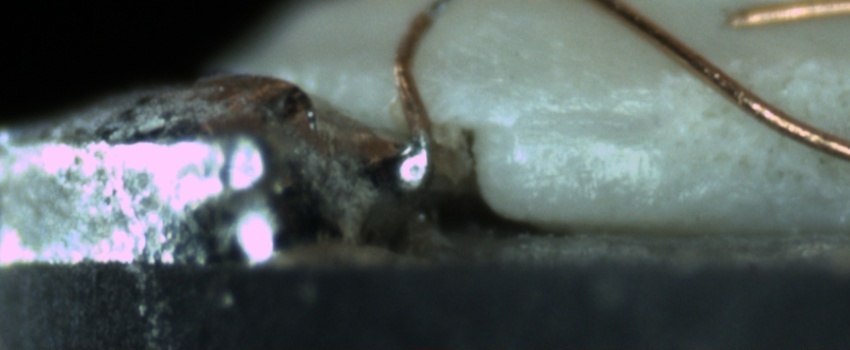DL: (513, 93, 668, 156)
